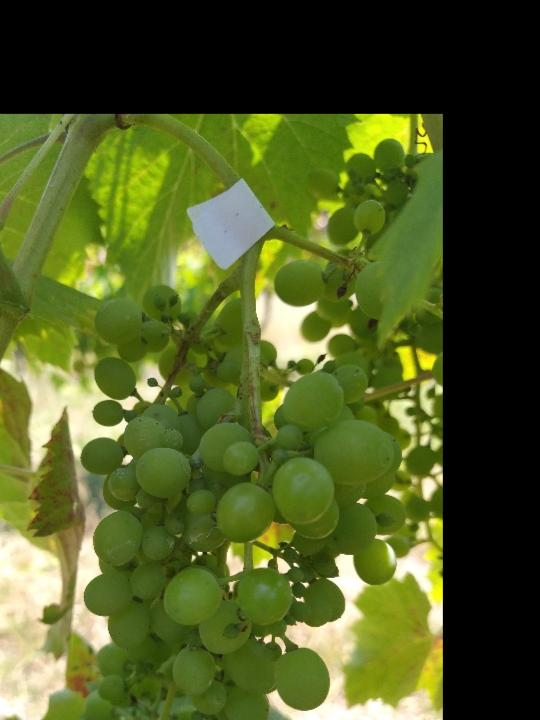grape: (67, 196, 413, 720)
